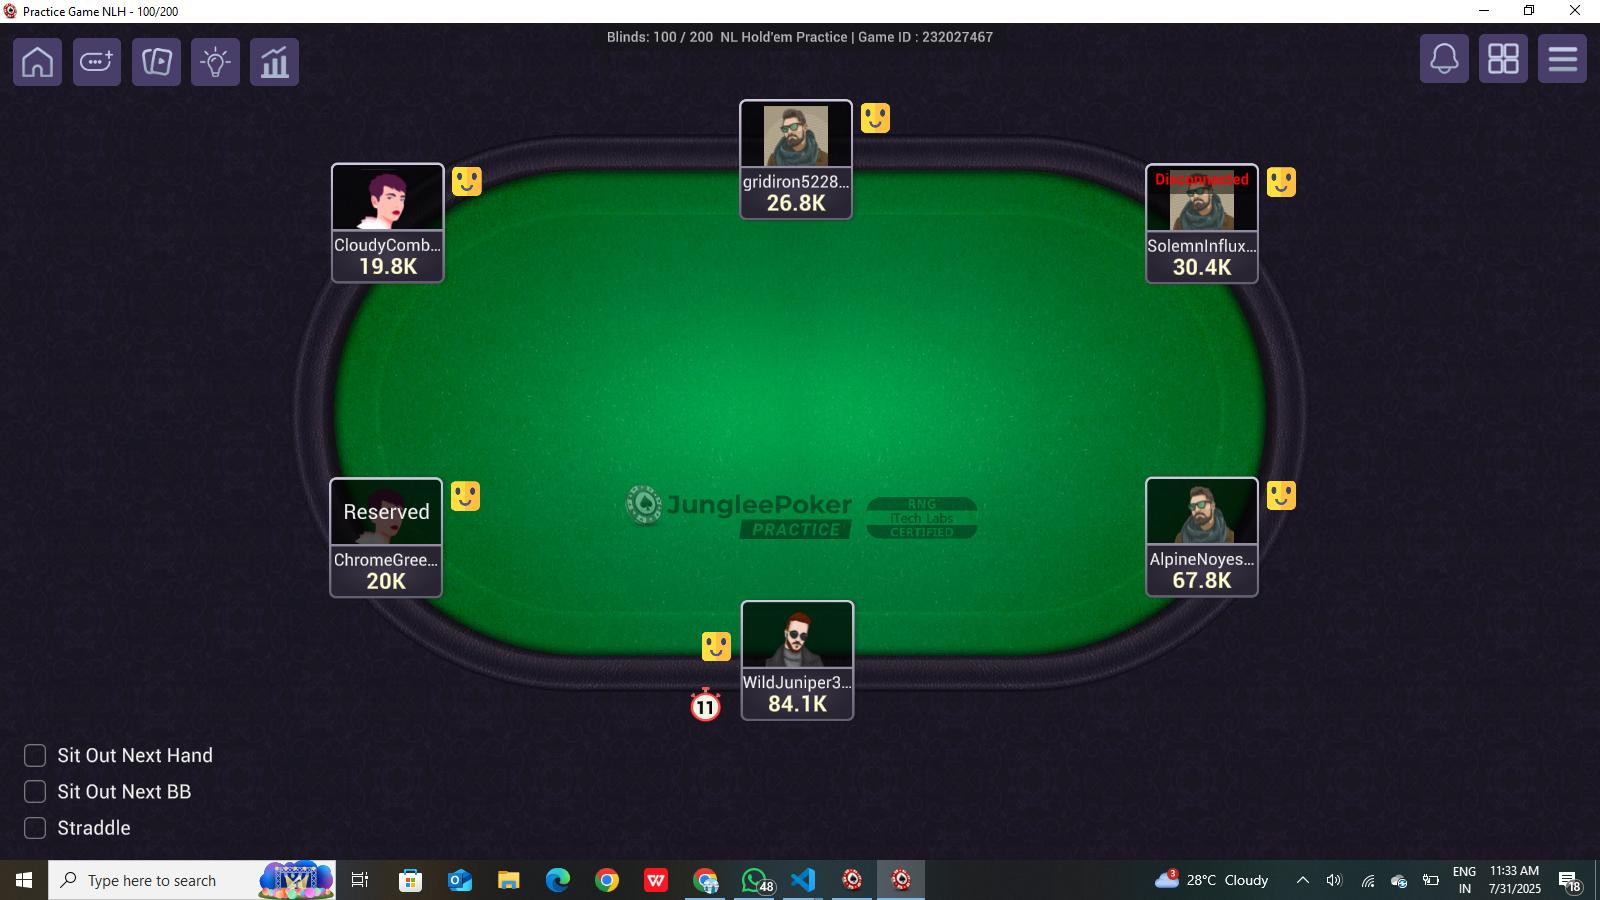game_id: (854, 23, 1025, 58)
my_stack: (758, 688, 838, 719)
villian1_name: (332, 543, 442, 570)
villian1_stack: (352, 571, 422, 598)
villian2_name: (332, 233, 443, 255)
villian2_stack: (354, 255, 426, 278)
villian3_name: (743, 168, 851, 191)
villian3_stack: (760, 193, 836, 219)
villian4_name: (1145, 233, 1258, 257)
villian4_stack: (1167, 255, 1240, 281)
villian5_name: (1146, 543, 1260, 571)
villian5_stack: (1167, 568, 1243, 591)
